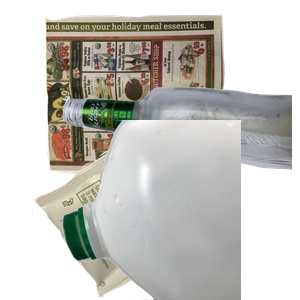glass: (60, 84, 300, 260)
paper: (42, 12, 260, 185)
plastic: (60, 120, 300, 300)
trash: (29, 124, 238, 300)
